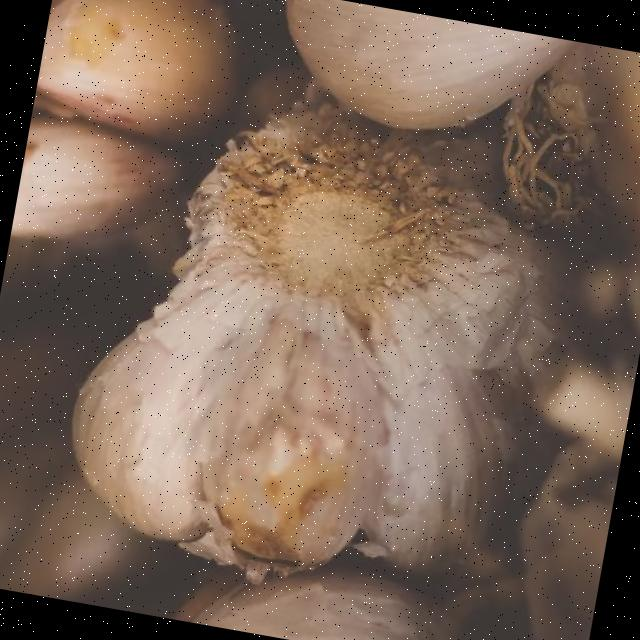garlic: (12, 0, 571, 640)
